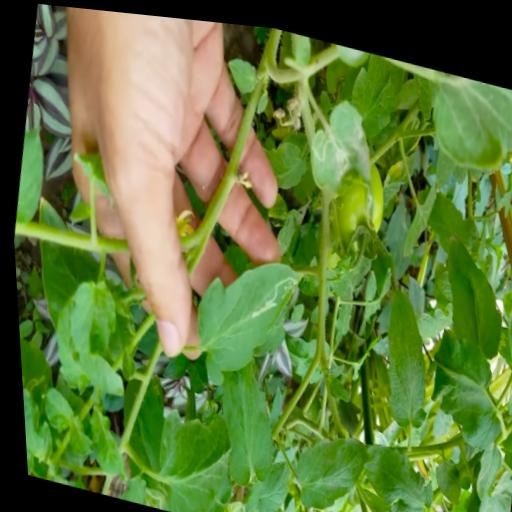Healthy: (414, 313, 512, 449), (200, 350, 283, 492), (366, 276, 440, 427), (142, 396, 238, 512), (283, 417, 371, 512), (349, 432, 434, 512), (16, 354, 60, 481), (425, 444, 461, 497)
Leaf_Miner: (179, 234, 309, 402), (300, 83, 381, 199), (17, 367, 44, 404)
